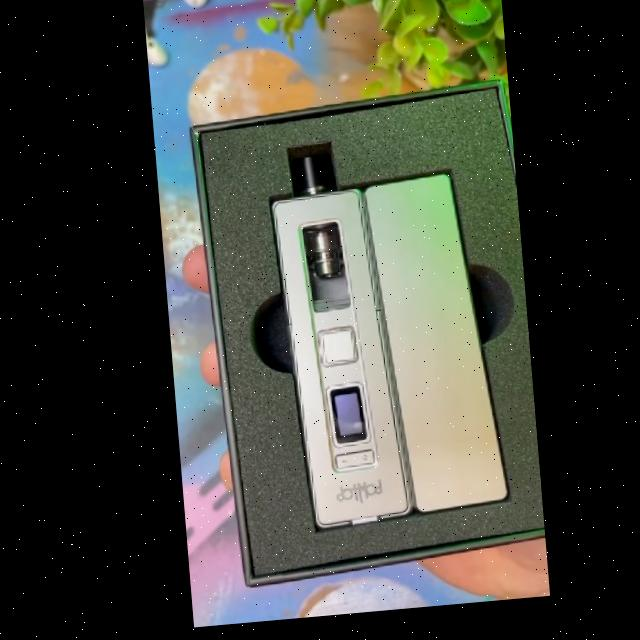vape: (265, 148, 502, 537)
